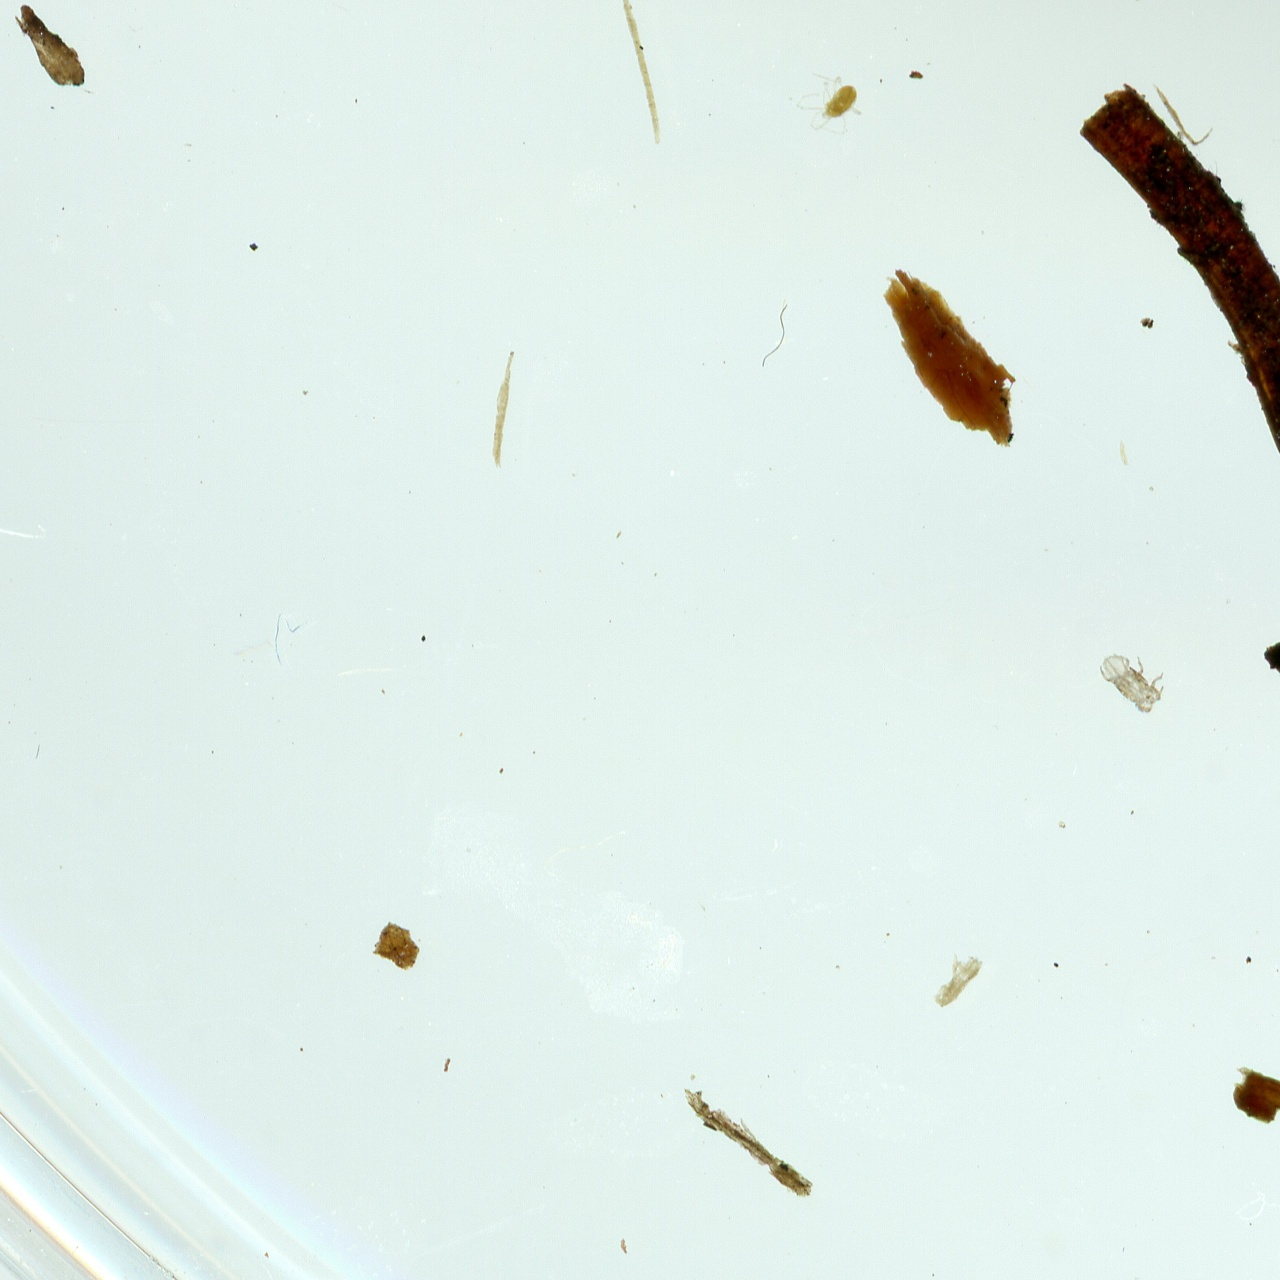arthropod: (793, 66, 871, 140), (1095, 647, 1173, 719)
